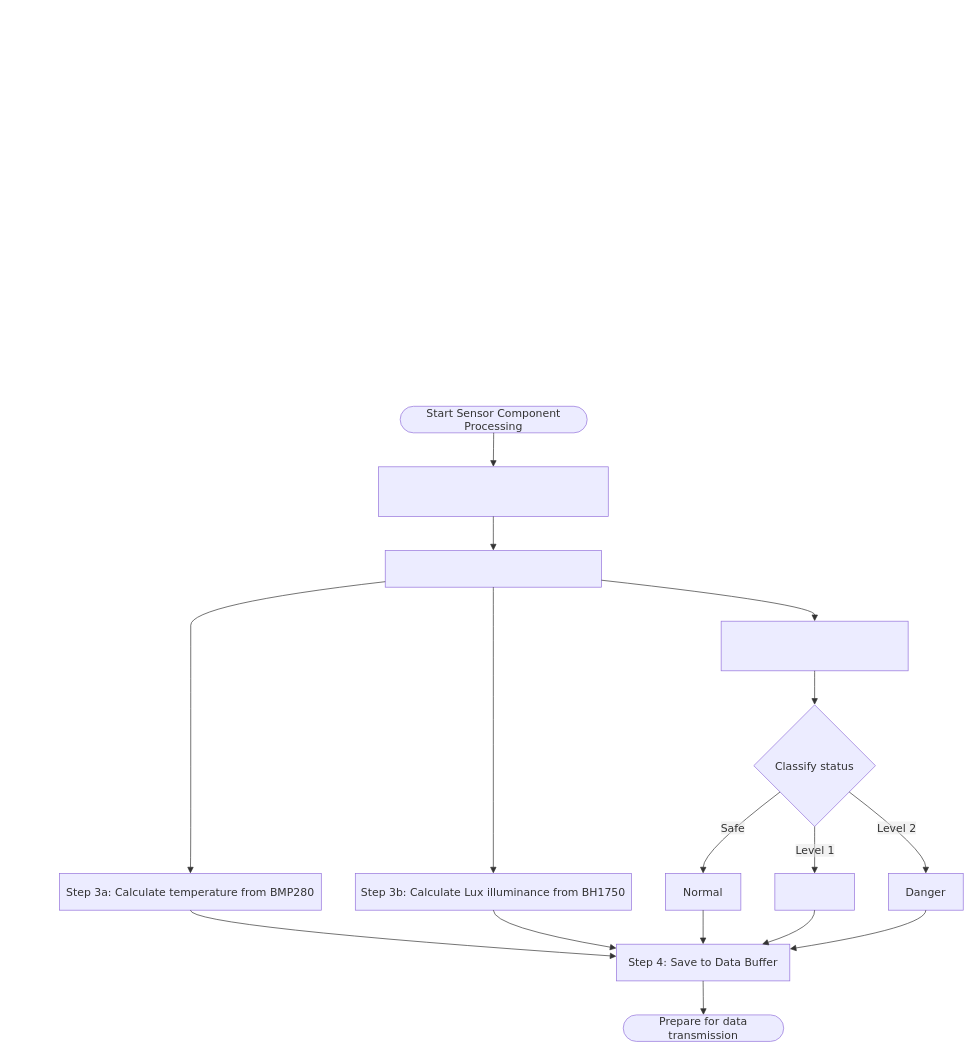
This 975x1053 diagram has some shape labels left out. Here are the shapes that lost their labels. From the top down, the centre of each, then its label:
At [493,491]: "Step 1: STM32 sends data read request to BMP280, BH1750, and MQ135".
At [493,568]: "Step 2: Get raw values from sensors".
At [814,645]: "Step 3c: Convert MQ135 value to relative status".
At [814,891]: "Warning".
